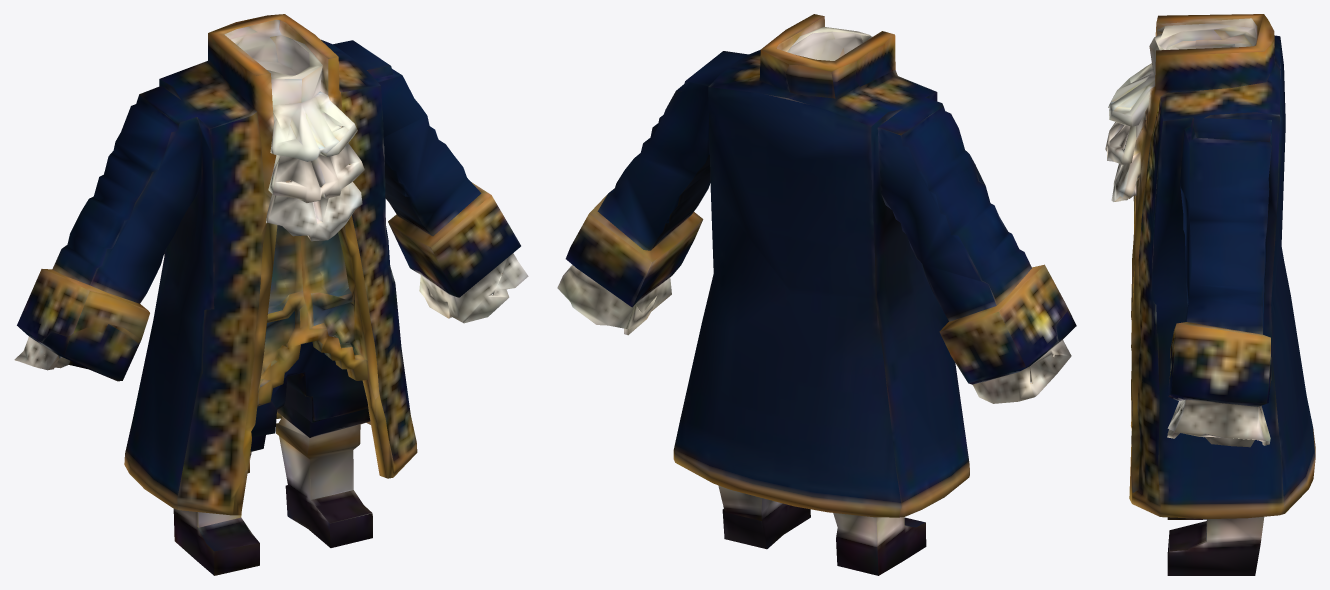
File: costume-louis14-v2.glb
3 renders of one model, left to right at view 1: azimuth 30°, elevation 25°; view 2: azimuth 150°, elevation 25°; view 3: azimuth 270°, elevation 25°, orthographic.
Visible parts, largest first — view 1: material.001; view 2: material.001; view 3: material.001.
Boxes of the visible parts, <box> form: material.001: <box>14,14,528,575</box>; material.001: <box>557,14,1076,575</box>; material.001: <box>1105,14,1315,575</box>.
Bounding box in the file's own units: 1.12 × 1.12 × 0.4238.
Materials: 1 (1 with a texture image).
